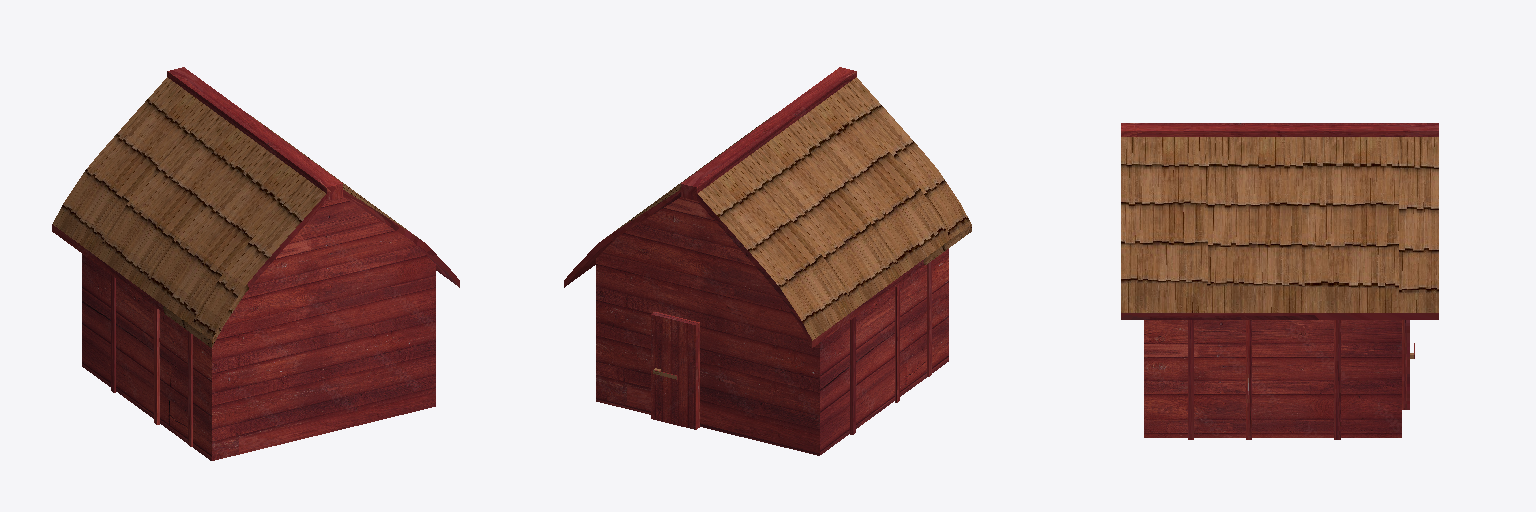
3 views of the same model, side by side, from view 1: azimuth 30°, elevation 25°; view 2: azimuth 150°, elevation 25°; view 3: azimuth 270°, elevation 25° (orthographic).
Parts seen in each view (by area): view 1: Cube; view 2: Cube; view 3: Cube.
Boxes of the visible parts, x1=… form: Cube: x1=52, y1=67, x2=459, y2=460; Cube: x1=564, y1=67, x2=971, y2=455; Cube: x1=1121, y1=123, x2=1438, y2=439.
Size of the model in its own units: 26.14 by 25.93 by 29.06.
1 materials, 1 textured.